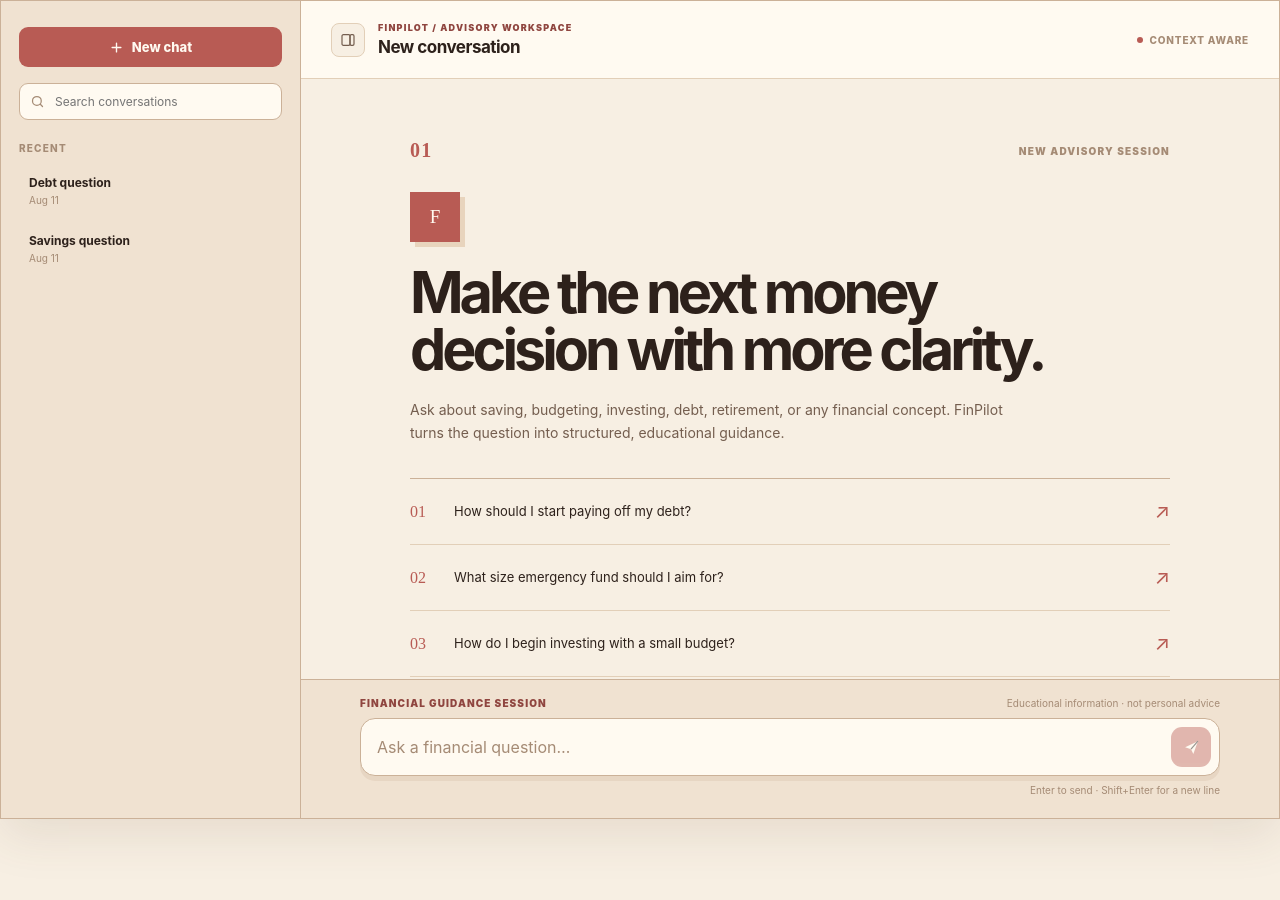
Test case: ChatWindow › switches between conversations without bleed-over
Click the button with class "conversation-item" showing "Debt question Aug 11". click: x=70, y=190
box: top-left (29, 175), bottom-right (111, 206)
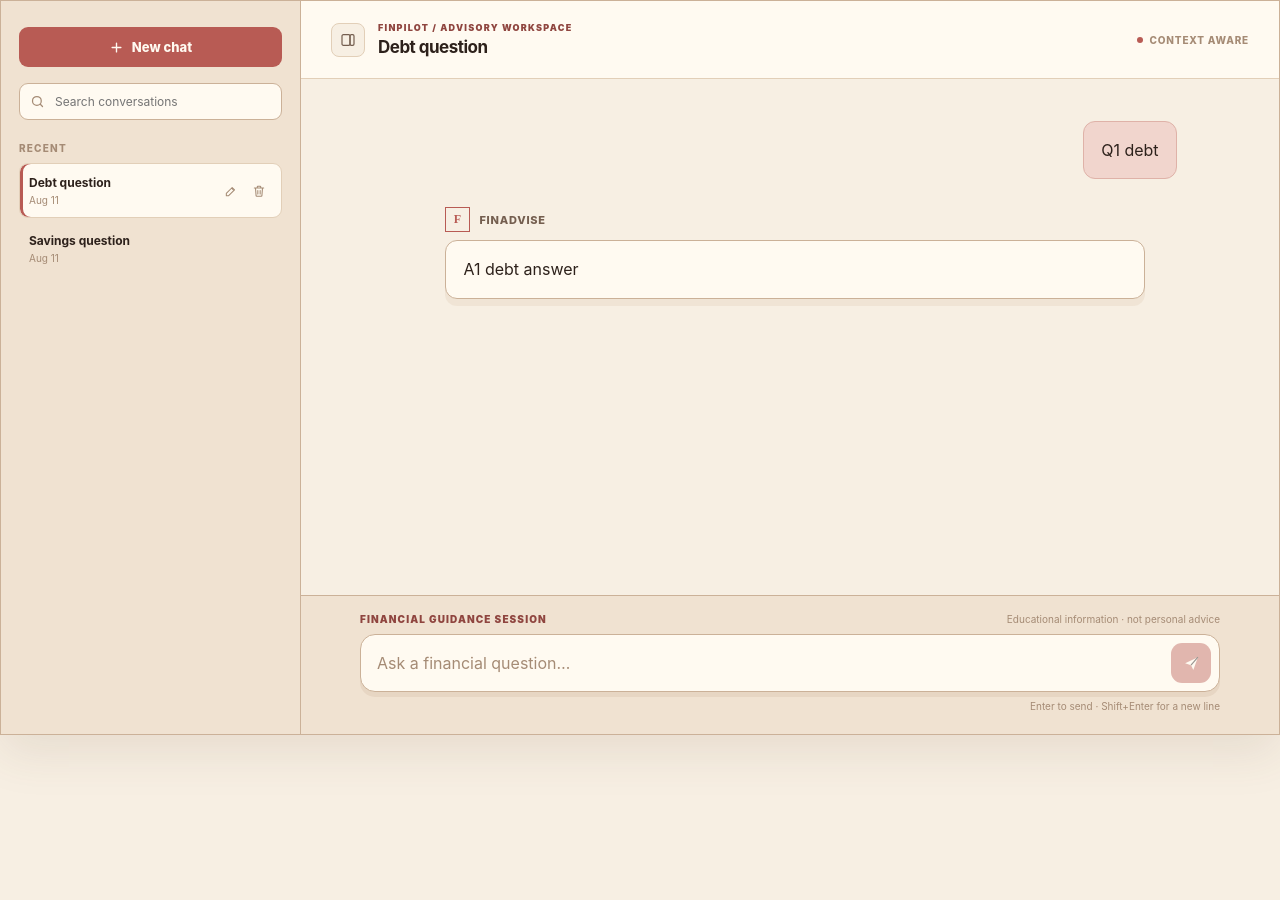
expect the text "A1 debt answer" is shown: met, box top-left (463, 259), bottom-right (579, 279)
Click the button with class "conversation-item" showing "Savings question Aug 11". click: x=80, y=248
box: top-left (29, 233), bottom-right (130, 264)
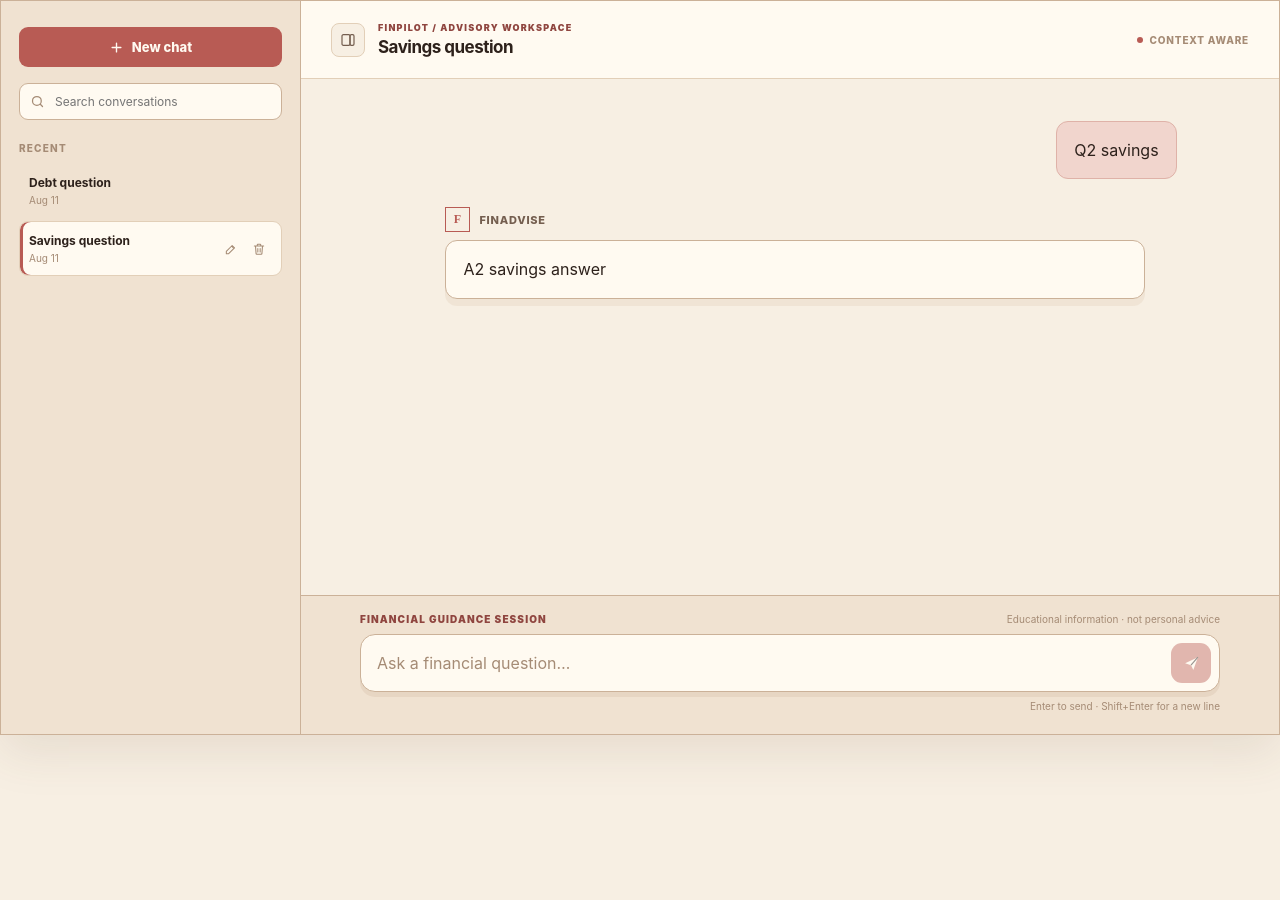
expect the text "Q2 savings" is shown: met, box top-left (1074, 137), bottom-right (1159, 163)
expect the text "A2 savings answer" is shown: met, box top-left (463, 259), bottom-right (606, 279)
expect the text "A1 debt answer" is gone: met
